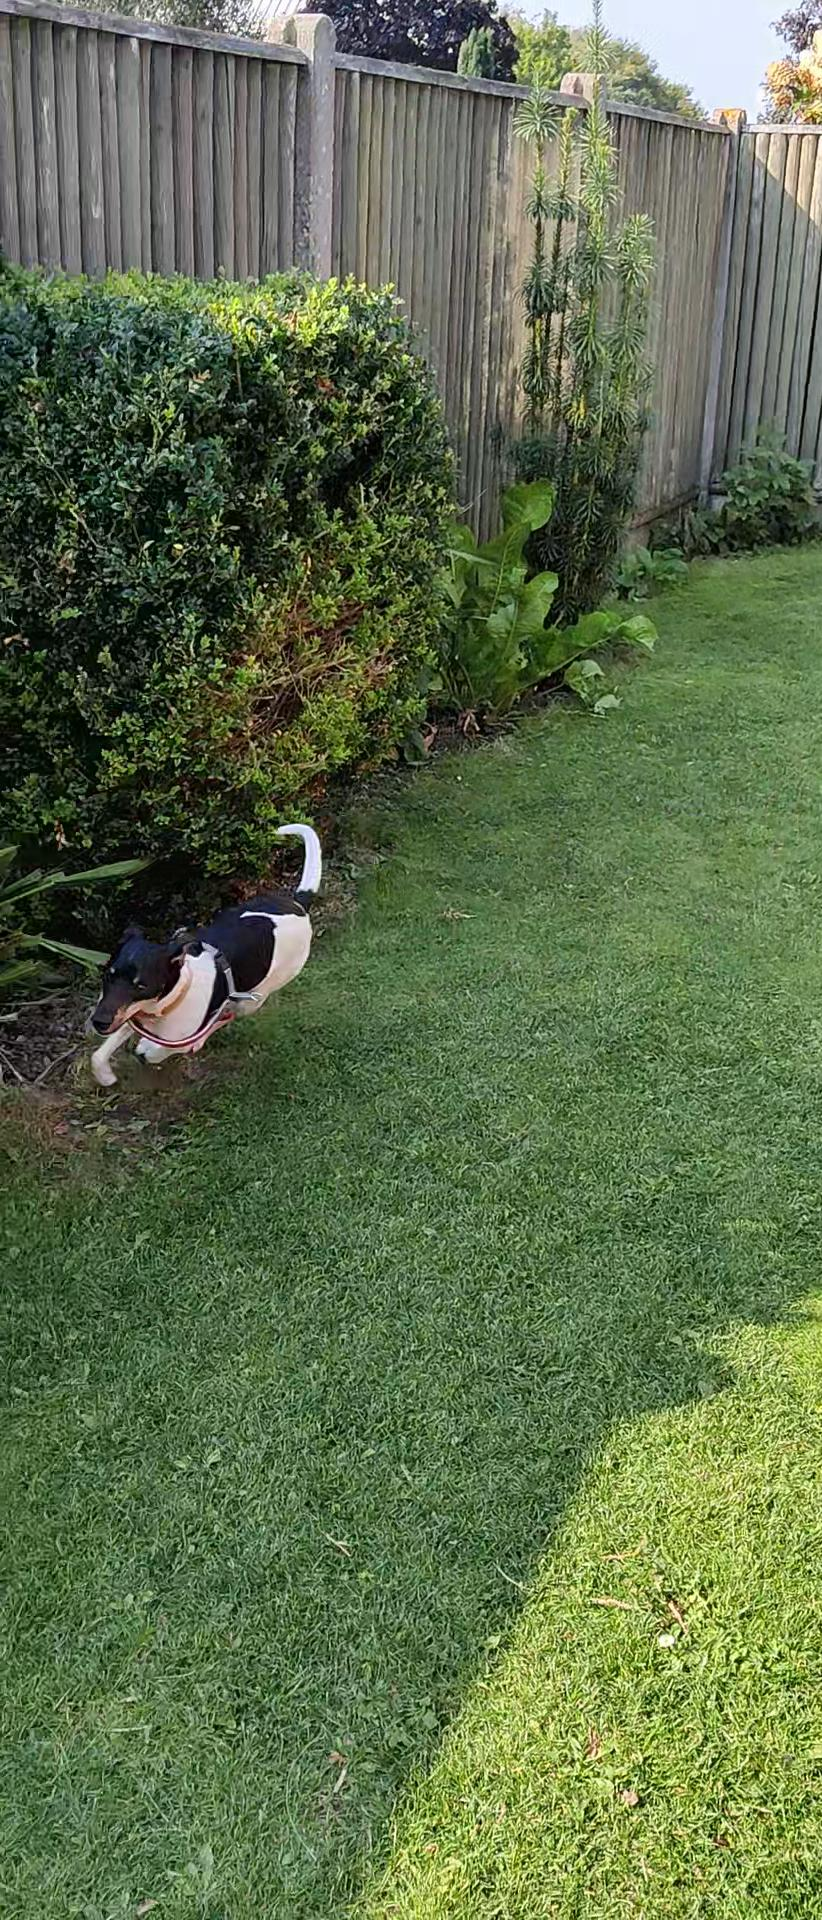Dog: (64, 816, 325, 1095)
